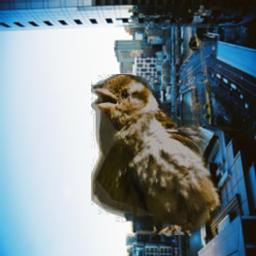Sparrow: (91, 74, 221, 235)
